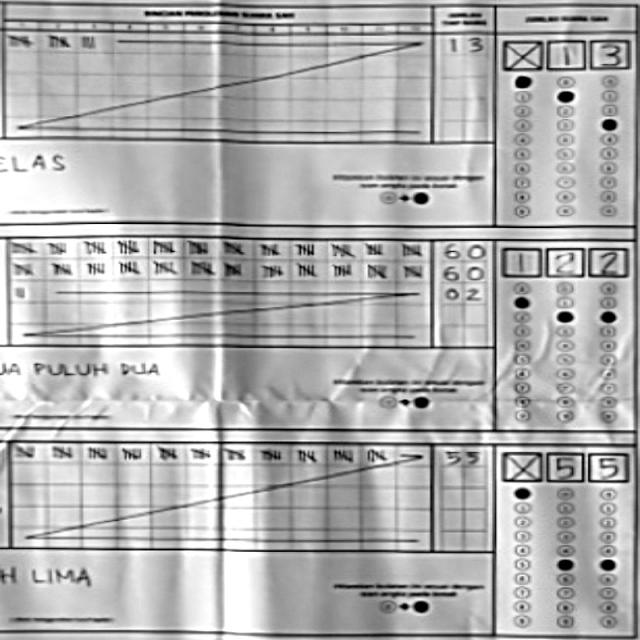Suara: (496, 242, 630, 282), (498, 32, 630, 72), (495, 447, 632, 485)
